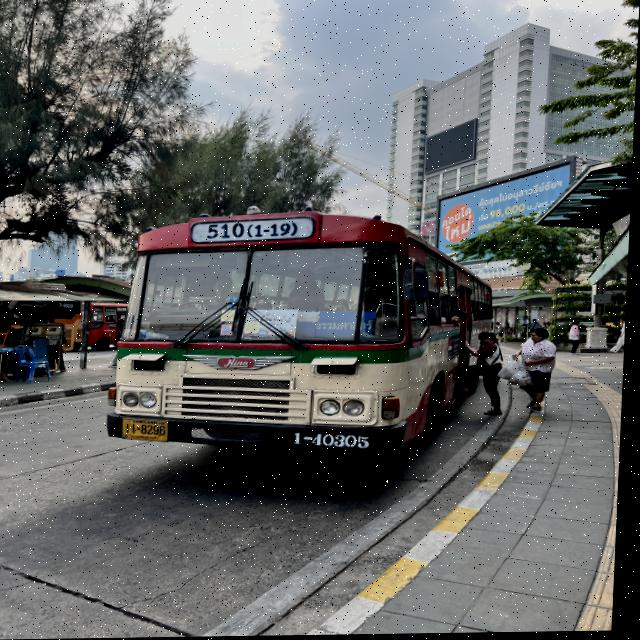BMTA-bus: (110, 213, 503, 461)
Bus Line Number: (194, 219, 316, 245)
Bus Side Number: (291, 427, 382, 456)
Destination Sign: (301, 309, 379, 339)
